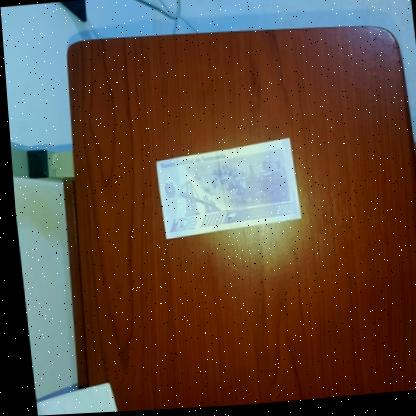two_hundred-back-vef: (151, 140, 299, 241)
